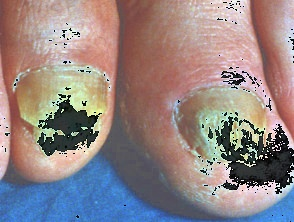Nail_psoriasis: (10, 62, 117, 156), (172, 82, 272, 172)
